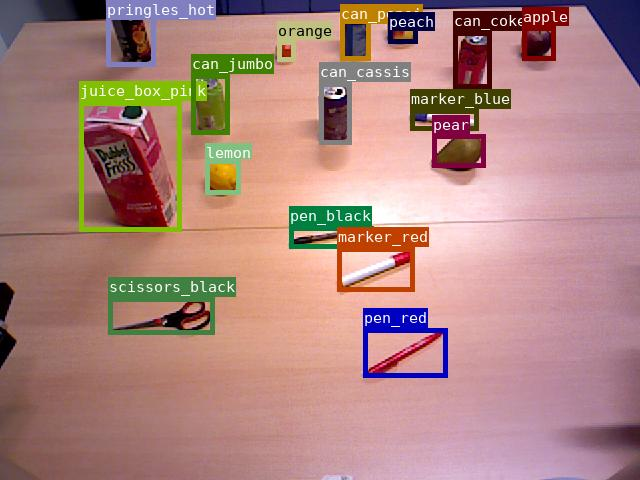apple: (522, 26, 555, 60)
can_cassis: (319, 82, 351, 144)
can_coke: (453, 31, 491, 88)
can_jumbo: (191, 74, 229, 134)
can_pepsi: (340, 4, 370, 60)
juice_box_pink: (79, 101, 181, 231)
lemon: (205, 159, 240, 194)
marker_blue: (410, 109, 478, 130)
marker_red: (337, 247, 414, 291)
orange: (277, 40, 295, 61)
peach: (388, 12, 417, 43)
pear: (432, 134, 485, 167)
pen_black: (289, 226, 373, 248)
pen_red: (363, 328, 447, 377)
pringles_hot: (106, 0, 155, 66)
scissors_black: (108, 297, 214, 334)
